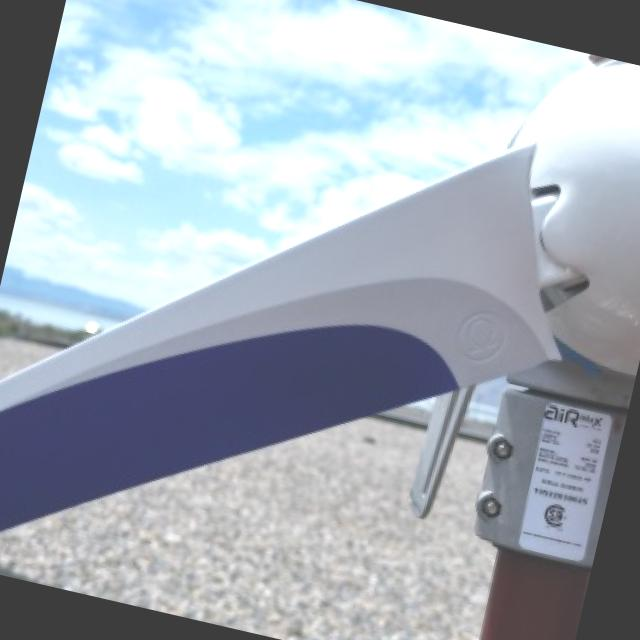healthy: (0, 417, 490, 640)
